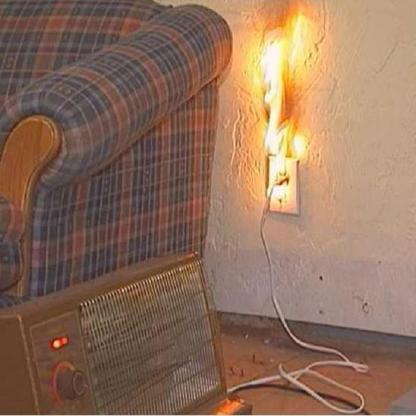fire: (258, 10, 312, 177)
